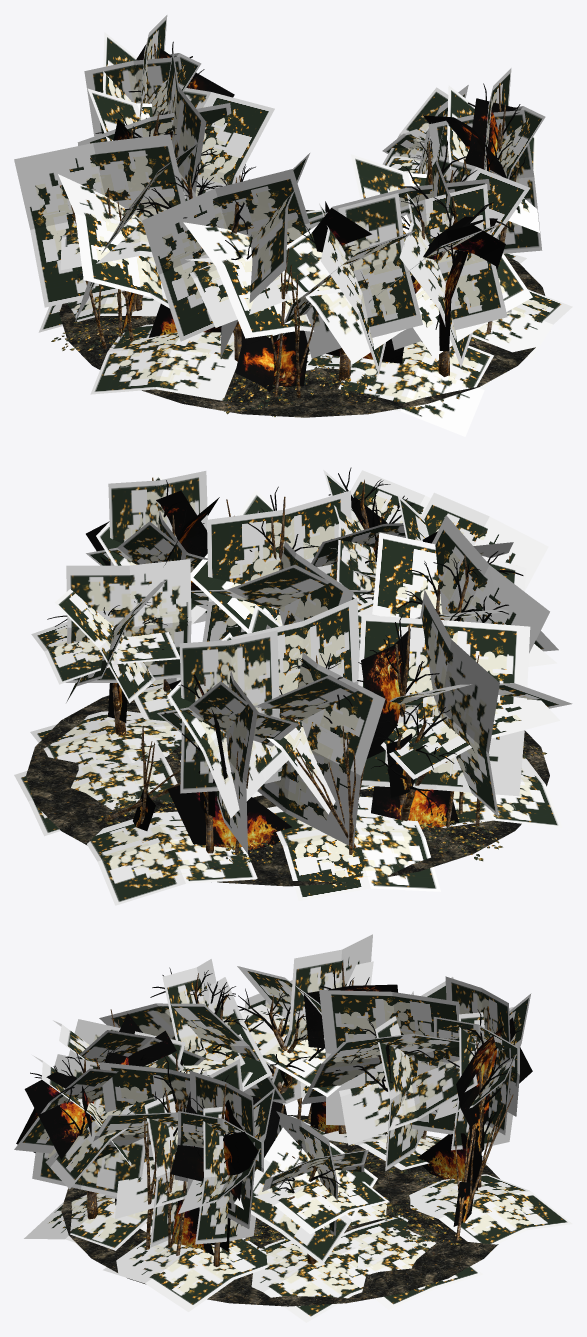
Rendered from ForestFire.fbx.
3 views of the same model, one above another, from view 1: azimuth 30°, elevation 25°; view 2: azimuth 150°, elevation 25°; view 3: azimuth 270°, elevation 25° (orthographic). The views are drawn at different scales.
Parts seen in each view (by area): view 1: LeafsBurnt_1, Circle, FireBig_1, TallTree_003_Circle_013_Dupli_0_0_0_0_0_0_0_0, Fire_1, SlenderTree_013_Circle_026_Dupli_0_0_0_0_0_0_0_0, LeafsBurnt_2; view 2: LeafsBurnt_1, Circle, TallTree_003_Circle_013_Dupli_0_0_0_0_0_0_0_0, Fire_1, FireBig_1, SlenderTree_013_Circle_026_Dupli_0_0_0_0_0_0_0_0, LeafsBurnt_2, FireSide_1; view 3: LeafsBurnt_1, Circle, Fire_1, FireBig_1, TallTree_003_Circle_013_Dupli_0_0_0_0_0_0_0_0, SlenderTree_013_Circle_026_Dupli_0_0_0_0_0_0_0_0, LeafsBurnt_2, FireSide_1.
Boxes of the visible parts, box(x1,y1,x2,y2) form: LeafsBurnt_1: box(14, 15, 572, 436); Circle: box(59, 210, 545, 417); FireBig_1: box(113, 44, 518, 391); TallTree_003_Circle_013_Dupli_0_0_0_0_0_0_0_0: box(95, 41, 525, 381); Fire_1: box(120, 201, 505, 338); SlenderTree_013_Circle_026_Dupli_0_0_0_0_0_0_0_0: box(69, 159, 518, 398); LeafsBurnt_2: box(51, 317, 490, 416); LeafsBurnt_1: box(14, 470, 572, 905); Circle: box(26, 695, 549, 886); TallTree_003_Circle_013_Dupli_0_0_0_0_0_0_0_0: box(47, 467, 523, 853); Fire_1: box(167, 486, 459, 850); FireBig_1: box(86, 490, 410, 830); SlenderTree_013_Circle_026_Dupli_0_0_0_0_0_0_0_0: box(104, 499, 510, 855); LeafsBurnt_2: box(96, 735, 546, 869); FireSide_1: box(108, 683, 415, 817); LeafsBurnt_1: box(14, 934, 572, 1322); Circle: box(61, 1115, 499, 1306); Fire_1: box(24, 1013, 482, 1255); FireBig_1: box(16, 984, 532, 1230); TallTree_003_Circle_013_Dupli_0_0_0_0_0_0_0_0: box(30, 962, 522, 1266); SlenderTree_013_Circle_026_Dupli_0_0_0_0_0_0_0_0: box(110, 1009, 513, 1255); LeafsBurnt_2: box(127, 1117, 481, 1251); FireSide_1: box(115, 1106, 484, 1251).
Bounding box in the file's own units: 2332 × 1112 × 2538.
9 materials, 8 textured.
